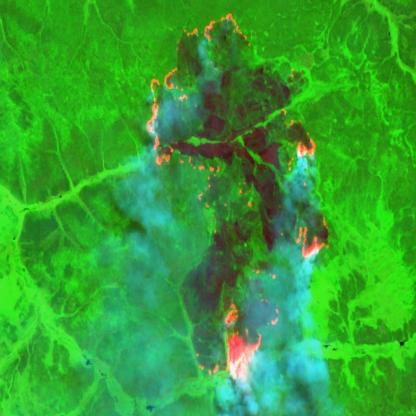fire: (144, 11, 258, 179), (193, 296, 284, 385), (290, 124, 335, 268)
